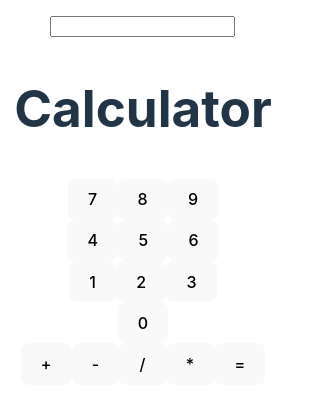
Test: calculator › Should user input after clicking several numbers and operations
Click the button "1" at (93, 282), box [69,261,116,302]
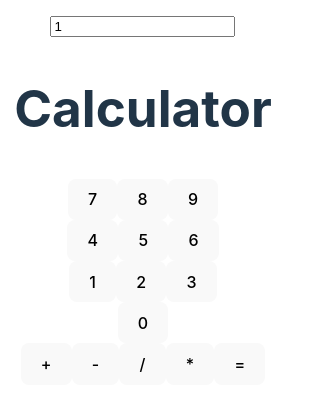
Click the button "+" at (46, 364), box [20,343,72,385]
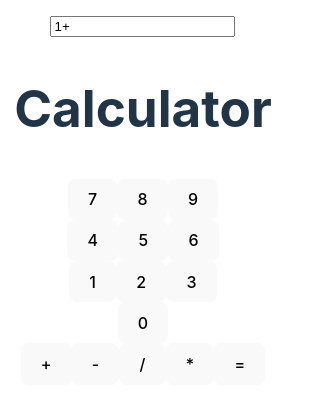
Click the button "1" at (93, 282), box [69,261,116,302]
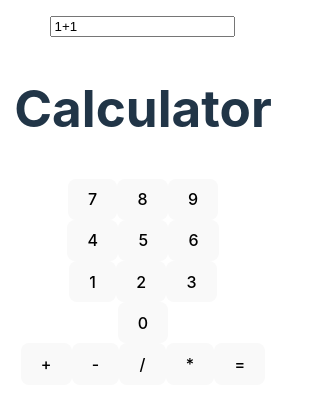
Expected: the field holds "1+1", [50,16,236,37]
